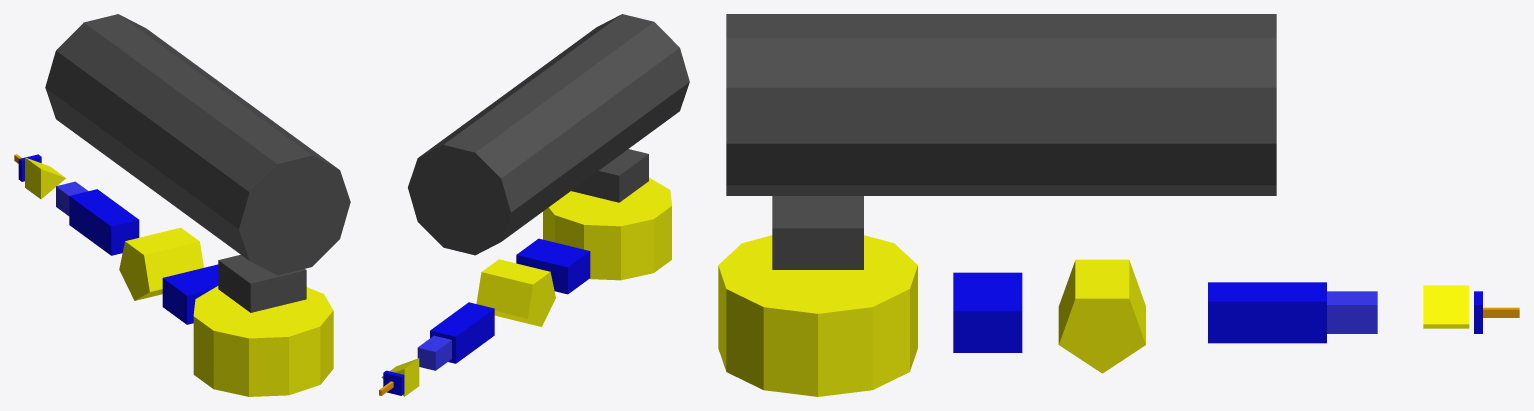
3 renders of one model, left to right at view 1: azimuth 30°, elevation 25°; view 2: azimuth 150°, elevation 25°; view 3: azimuth 270°, elevation 25°, orthographic. The views are drawn at different scales.
Parts seen in each view (by area): view 1: base_link, base_motor, lift_motor, block_to_base, extend_link1, swivel_link, wrist_motor, extend_link2; view 2: base_link, base_motor, lift_motor, swivel_link, block_to_base, extend_link1, extend_link2, wrist_motor, wrist_plate; view 3: base_link, base_motor, lift_motor, extend_link1, block_to_base, swivel_link, extend_link2, wrist_motor.
Part boxes in pixels (x1=…): base_link: x1=45, y1=14, x2=350, y2=275; base_motor: x1=193, y1=286, x2=333, y2=396; lift_motor: x1=119, y1=227, x2=203, y2=300; block_to_base: x1=218, y1=254, x2=306, y2=312; extend_link1: x1=69, y1=189, x2=139, y2=255; swivel_link: x1=162, y1=264, x2=218, y2=324; wrist_motor: x1=25, y1=157, x2=65, y2=199; extend_link2: x1=56, y1=181, x2=88, y2=215; base_link: x1=408, y1=14, x2=689, y2=255; base_motor: x1=543, y1=177, x2=671, y2=280; lift_motor: x1=476, y1=259, x2=555, y2=326; swivel_link: x1=516, y1=238, x2=590, y2=294; block_to_base: x1=571, y1=149, x2=648, y2=202; extend_link1: x1=430, y1=302, x2=494, y2=363; extend_link2: x1=417, y1=335, x2=451, y2=370; wrist_motor: x1=381, y1=358, x2=419, y2=396; wrist_plate: x1=383, y1=370, x2=404, y2=395; base_link: x1=726, y1=14, x2=1276, y2=195; base_motor: x1=718, y1=235, x2=917, y2=396; lift_motor: x1=1058, y1=259, x2=1145, y2=373; extend_link1: x1=1208, y1=282, x2=1326, y2=343; block_to_base: x1=772, y1=196, x2=863, y2=269; swivel_link: x1=953, y1=272, x2=1022, y2=352; extend_link2: x1=1327, y1=291, x2=1377, y2=333; wrist_motor: x1=1423, y1=285, x2=1469, y2=328.
Size of what is drawn, in the model's own units: 0.2155 by 0.8739 by 0.3951.
